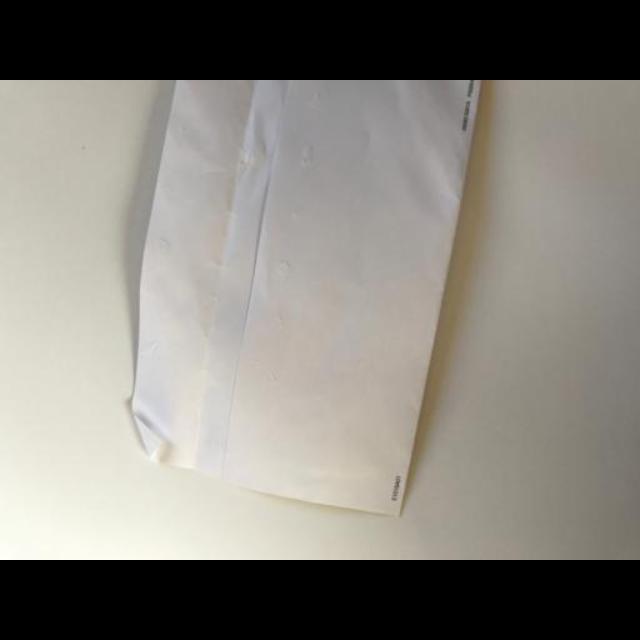papel: (128, 80, 480, 514)
